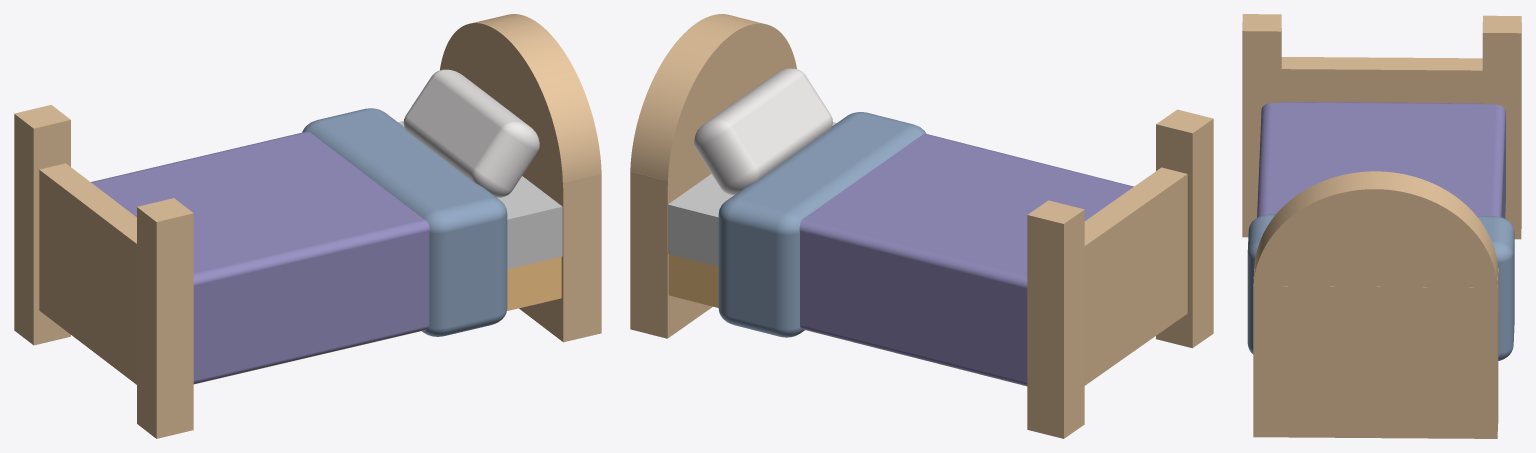
The model's file is BED.gltf.
3 views of the same model, side by side, from view 1: azimuth 30°, elevation 25°; view 2: azimuth 150°, elevation 25°; view 3: azimuth 270°, elevation 25° (orthographic). The views are drawn at different scales.
Visible parts, largest first — view 1: Cube 15 (×3), Cube 17, Cube 12 (×2), Cylinder, Cube 16, Cube 14, Cube 74; view 2: Cube 15 (×3), Cube 12 (×2), Cube 17, Cylinder, Cube 16, Cube 14, Cube 74; view 3: Cube 14, Cube 15 (×3), Cylinder, Cube 12, Cube 17.
Boxes of the visible parts, x1=… form: Cube 15 (×3): x1=14, y1=105, x2=429, y2=438; Cube 17: x1=302, y1=108, x2=507, y2=336; Cube 12 (×2): x1=39, y1=163, x2=561, y2=384; Cylinder: x1=440, y1=14, x2=601, y2=187; Cube 16: x1=403, y1=69, x2=539, y2=197; Cube 14: x1=519, y1=163, x2=601, y2=342; Cube 74: x1=398, y1=121, x2=562, y2=269; Cube 15 (×3): x1=799, y1=109, x2=1213, y2=438; Cube 12 (×2): x1=668, y1=167, x2=1187, y2=386; Cube 17: x1=718, y1=112, x2=926, y2=337; Cylinder: x1=630, y1=14, x2=796, y2=185; Cube 16: x1=694, y1=68, x2=832, y2=194; Cube 14: x1=630, y1=161, x2=712, y2=338; Cube 74: x1=668, y1=122, x2=836, y2=266; Cube 14: x1=1253, y1=269, x2=1498, y2=438; Cube 15 (×3): x1=1242, y1=14, x2=1521, y2=239; Cylinder: x1=1253, y1=171, x2=1497, y2=287; Cube 12: x1=1281, y1=57, x2=1482, y2=103; Cube 17: x1=1247, y1=214, x2=1514, y2=360.
Bounding box in the file's own units: 12.63 × 6.95 × 7.07.
